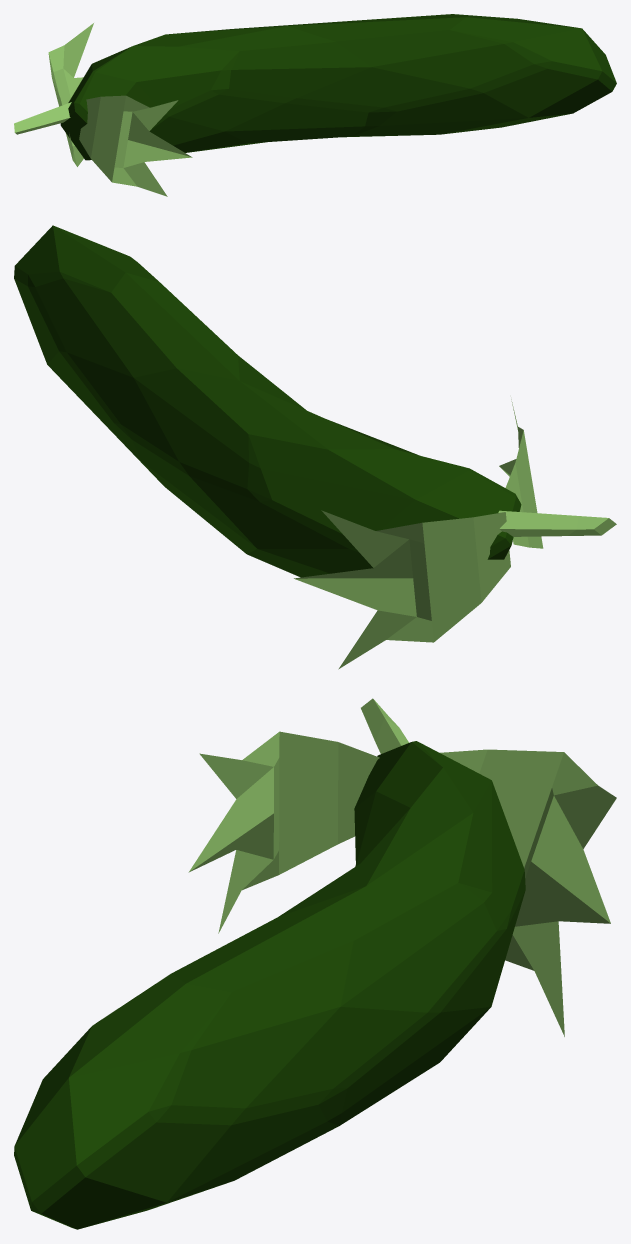
File: Cucumber.fbx
The picture shows the model from 3 angles, top to bottom: view 1: azimuth 30°, elevation 25°; view 2: azimuth 150°, elevation 25°; view 3: azimuth 270°, elevation 25°; orthographic projection. The views are drawn at different scales.
Visible parts, largest first — view 1: Cucumber; view 2: Cucumber; view 3: Cucumber.
Boxes of the visible parts, bbox=[...] form: Cucumber: bbox=[14, 14, 616, 196]; Cucumber: bbox=[14, 225, 616, 669]; Cucumber: bbox=[14, 698, 616, 1229].
Bounding box in the file's own units: 285 × 81.22 × 154.
